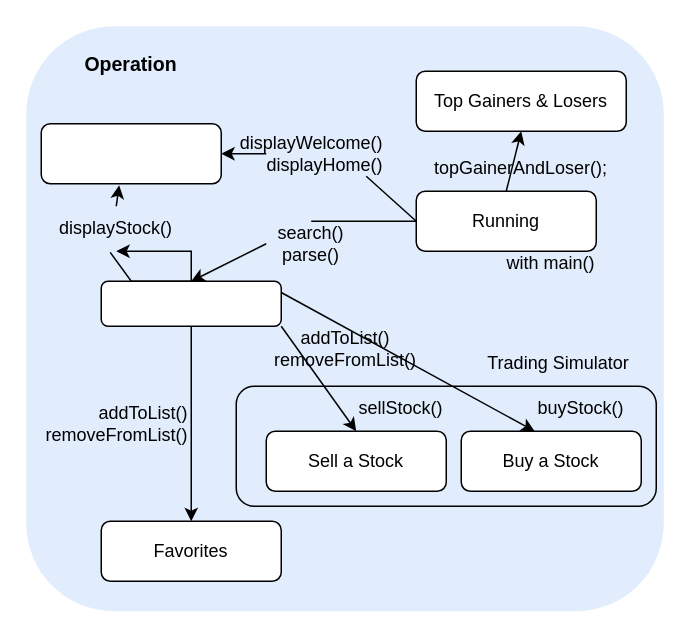
Some shapes in this 689 by 636 pixel diagram are drawn without their labels. The shapes that lost their labels are listed below. From the top down, each one's box as (x1, y1, x2, y2) in pixels, then its label:
(40, 122, 221, 184): Basic Display
(100, 280, 281, 326): Search Stock
